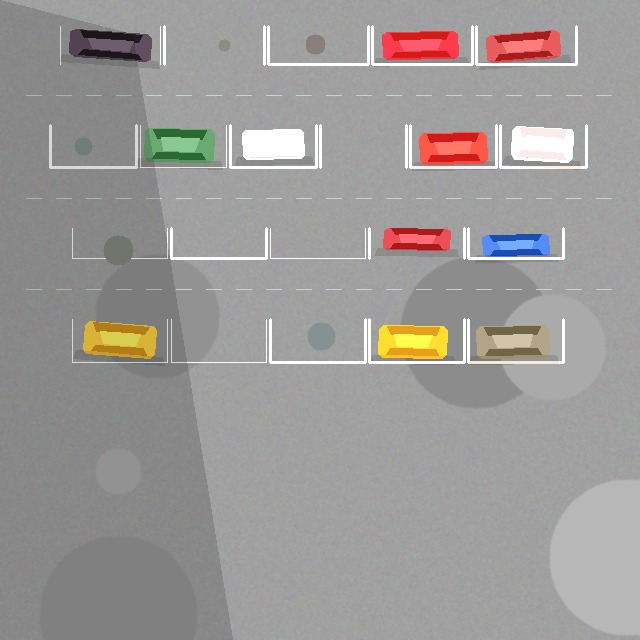space-empty: (171, 319, 266, 362), (270, 319, 365, 362), (164, 26, 264, 64), (268, 26, 368, 64), (50, 125, 136, 167), (320, 125, 406, 167), (72, 228, 167, 258), (171, 228, 266, 258), (270, 228, 365, 258)
space-occupied: (72, 319, 167, 362), (369, 319, 464, 362), (468, 319, 563, 362), (60, 26, 160, 64), (372, 26, 472, 64), (476, 26, 576, 64), (140, 125, 226, 167), (230, 125, 316, 167), (410, 125, 496, 167), (500, 125, 586, 167), (369, 228, 464, 258), (468, 228, 563, 258)
